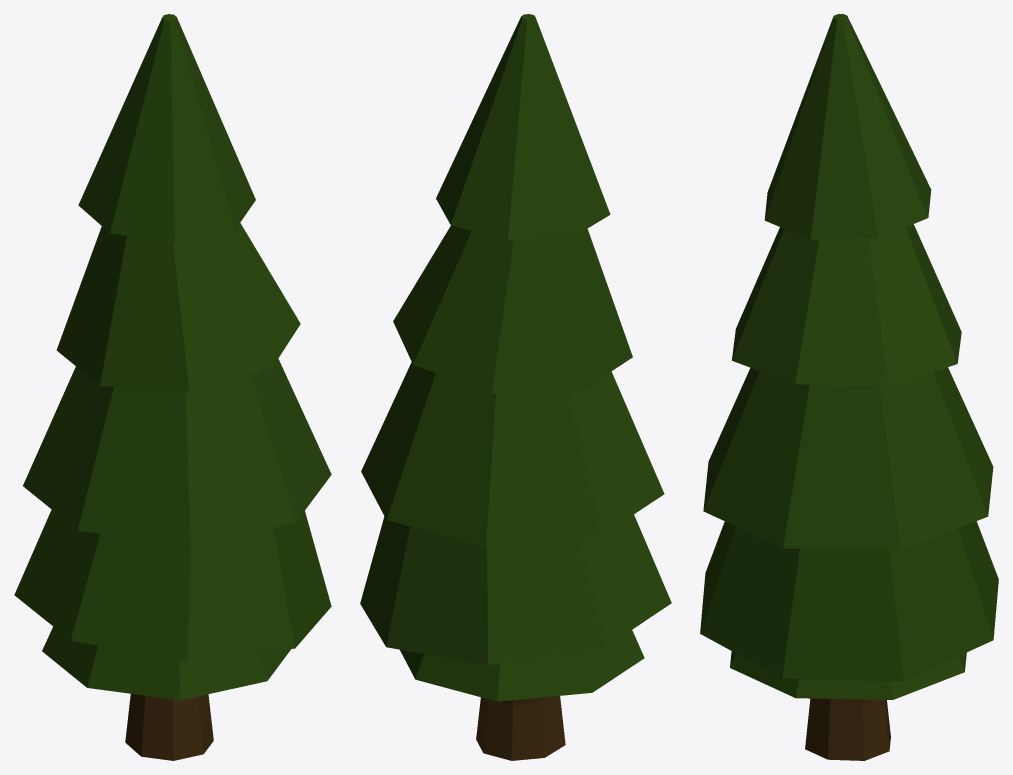
The model's file is pino.fbx.
The picture shows the model from 3 angles, left to right: view 1: azimuth 30°, elevation 25°; view 2: azimuth 150°, elevation 25°; view 3: azimuth 270°, elevation 25°; orthographic projection.
Visible parts, largest first — view 1: pine leaves004, tree trunk004; view 2: pine leaves004, tree trunk004; view 3: pine leaves004, tree trunk004.
Part boxes in pixels (x1,y1,x2,y2): pine leaves004: (14,14,331,700); tree trunk004: (125,694,213,760); pine leaves004: (360,14,671,701); tree trunk004: (476,696,565,760); pine leaves004: (700,14,998,699); tree trunk004: (805,698,890,760).
Size of the model in its own units: 250 by 672 by 251.
2 materials, 2 textured.
